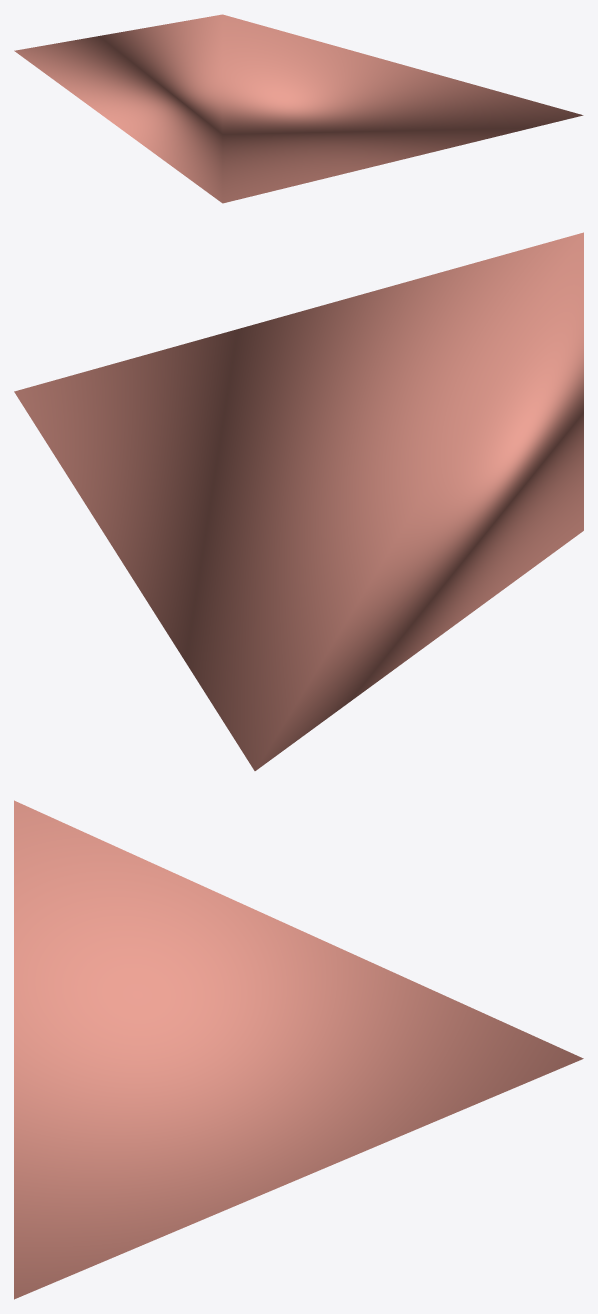
Rendered from two-scenes.glb.
3 views of the same model, one above another, from view 1: azimuth 30°, elevation 25°; view 2: azimuth 150°, elevation 25°; view 3: azimuth 270°, elevation 25° (orthographic). The views are drawn at different scales.
Parts seen in each view (by area): view 1: Liver mesh; view 2: Liver mesh; view 3: Liver mesh.
Boxes of the visible parts, x1,y1,x2,y2 form: Liver mesh: (14, 14, 583, 203); Liver mesh: (14, 232, 583, 770); Liver mesh: (14, 800, 583, 1299).
Size of the model in its own units: 0.1 by 0.05 by 0.1.
